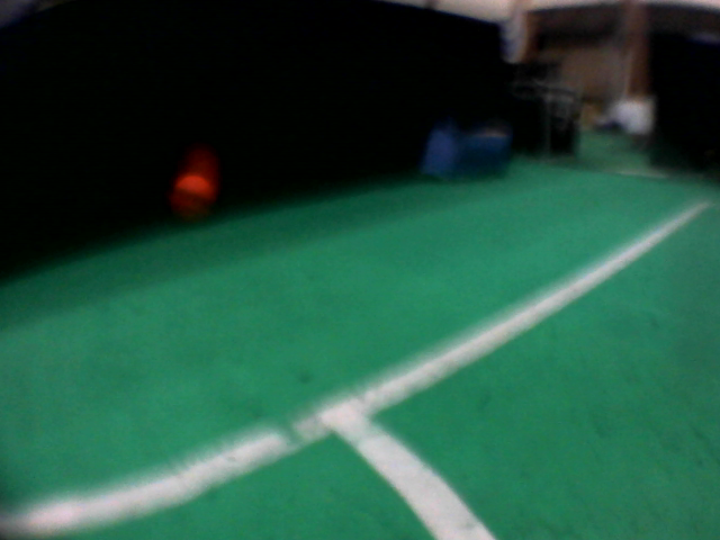bola: (163, 163, 227, 229)
